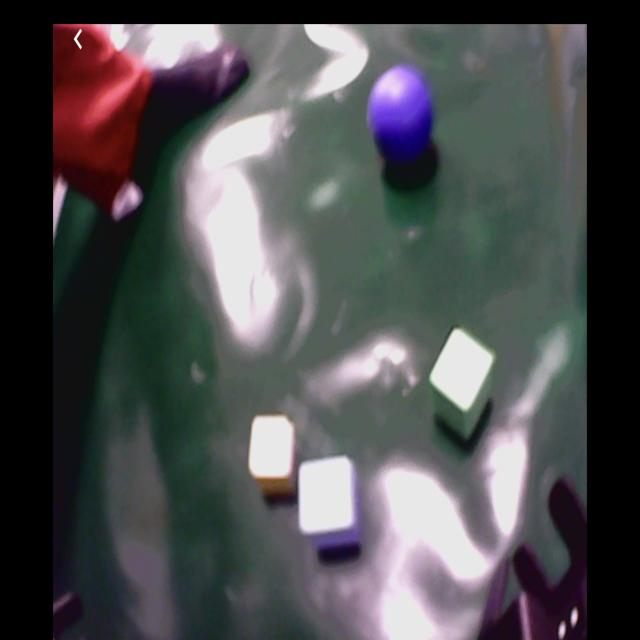ball: (370, 68, 435, 168)
